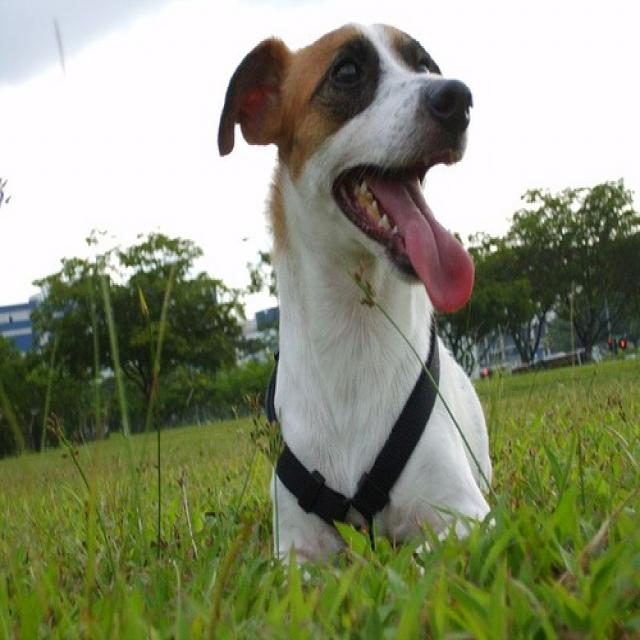dog: (219, 19, 497, 578)
